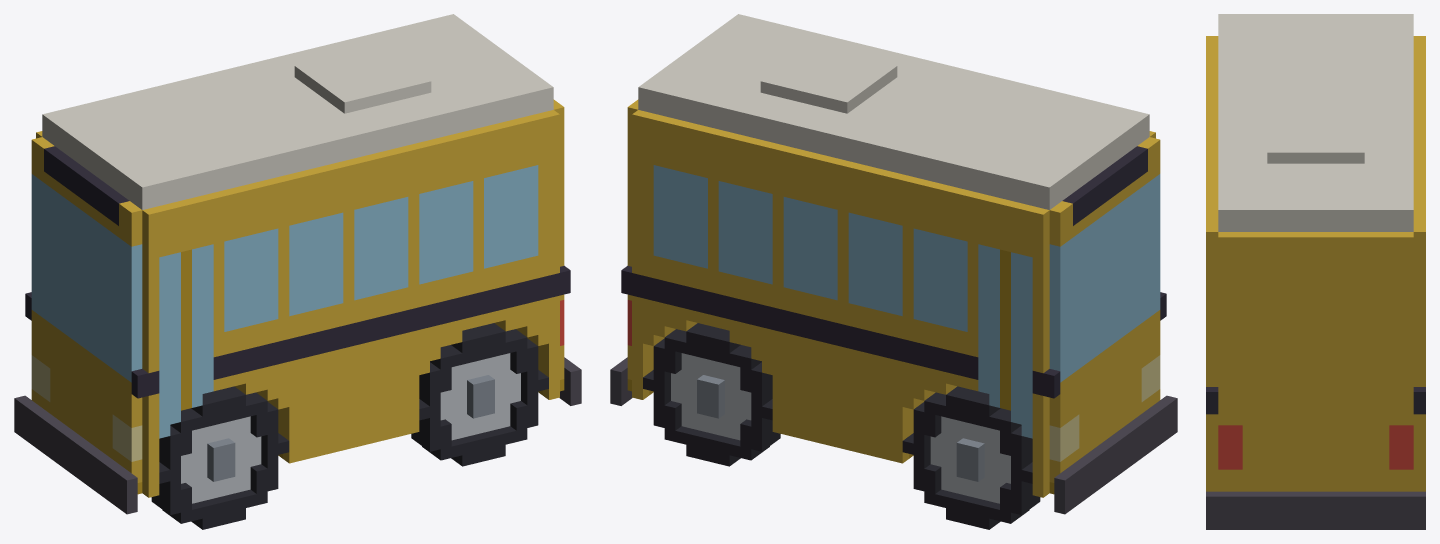
File: school-bus.glb
3 renders of one model, left to right at view 1: azimuth 30°, elevation 25°; view 2: azimuth 150°, elevation 25°; view 3: azimuth 270°, elevation 25°, orthographic. The views are drawn at different scales.
Parts seen in each view (by area): view 1: prop; view 2: prop; view 3: prop.
Part boxes in pixels (x1=…): prop: x1=14, y1=14, x2=581, y2=529; prop: x1=610, y1=14, x2=1177, y2=529; prop: x1=1206, y1=14, x2=1425, y2=529.
Size of the model in its own units: 17.06 by 13 by 7.31.
